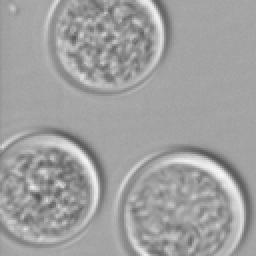picoshell: (112, 146, 248, 254), (0, 128, 102, 244), (46, 0, 168, 94)
